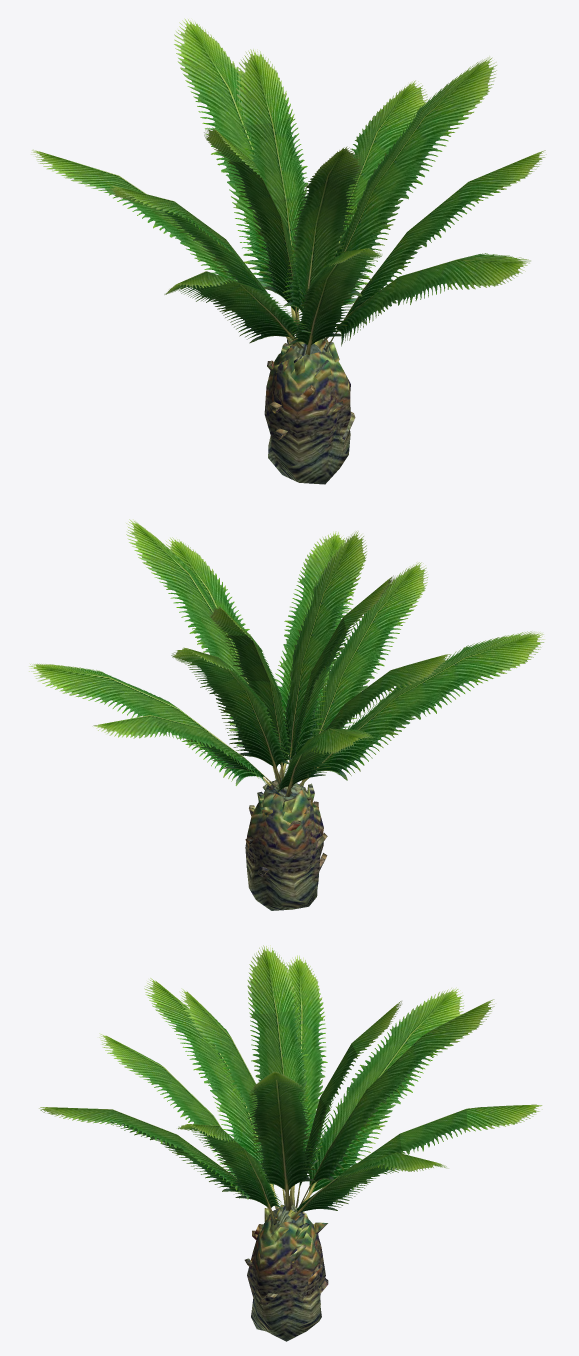
The model's file is cycas.glb.
3 views of the same model, one above another, from view 1: azimuth 30°, elevation 25°; view 2: azimuth 150°, elevation 25°; view 3: azimuth 270°, elevation 25° (orthographic). The views are drawn at different scales.
Visible parts, largest first — view 1: cycas; view 2: cycas; view 3: cycas.
Boxes of the visible parts, x1,y1,x2,y2 form: cycas: (31, 18, 546, 484); cycas: (29, 519, 544, 910); cycas: (39, 945, 542, 1341).
Bounding box in the file's own units: 2.26 × 1.8 × 2.61.
Materials: 2 (2 with a texture image).
